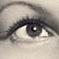eye: (26, 24, 42, 37)
